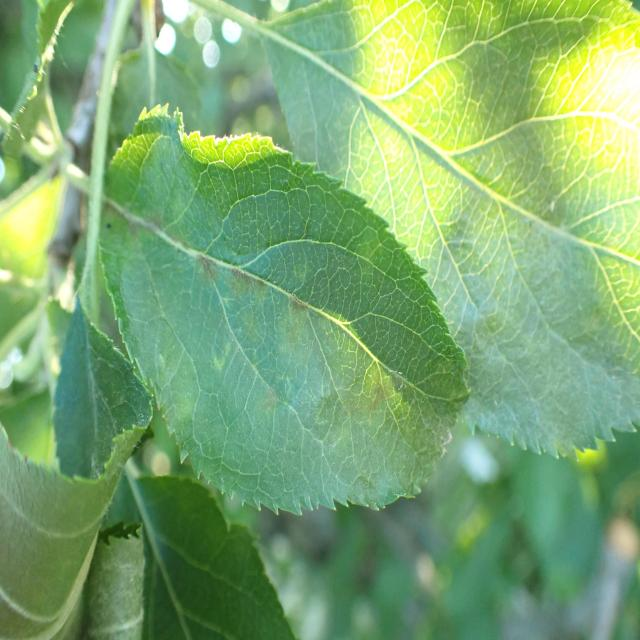scab: (85, 148, 442, 510), (446, 160, 601, 467)
